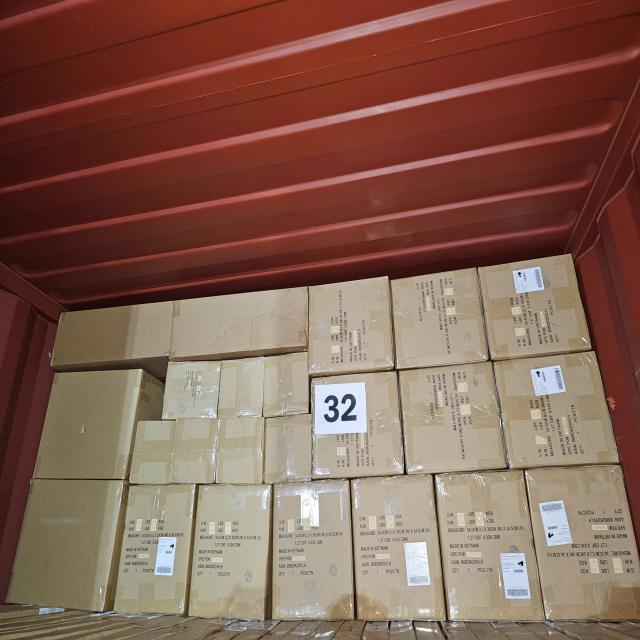Carton: (527, 464, 639, 628), (434, 469, 542, 624), (10, 481, 120, 619), (348, 476, 442, 624), (500, 356, 619, 470), (272, 484, 354, 624), (38, 367, 136, 480), (400, 365, 500, 475), (487, 254, 592, 357), (194, 486, 271, 622), (176, 285, 314, 360), (311, 372, 404, 479), (118, 486, 192, 618), (391, 272, 485, 372), (57, 300, 179, 368), (310, 280, 396, 376), (131, 417, 218, 486), (164, 362, 222, 422), (264, 413, 312, 482), (218, 356, 270, 417), (217, 416, 262, 486), (265, 353, 311, 419)
